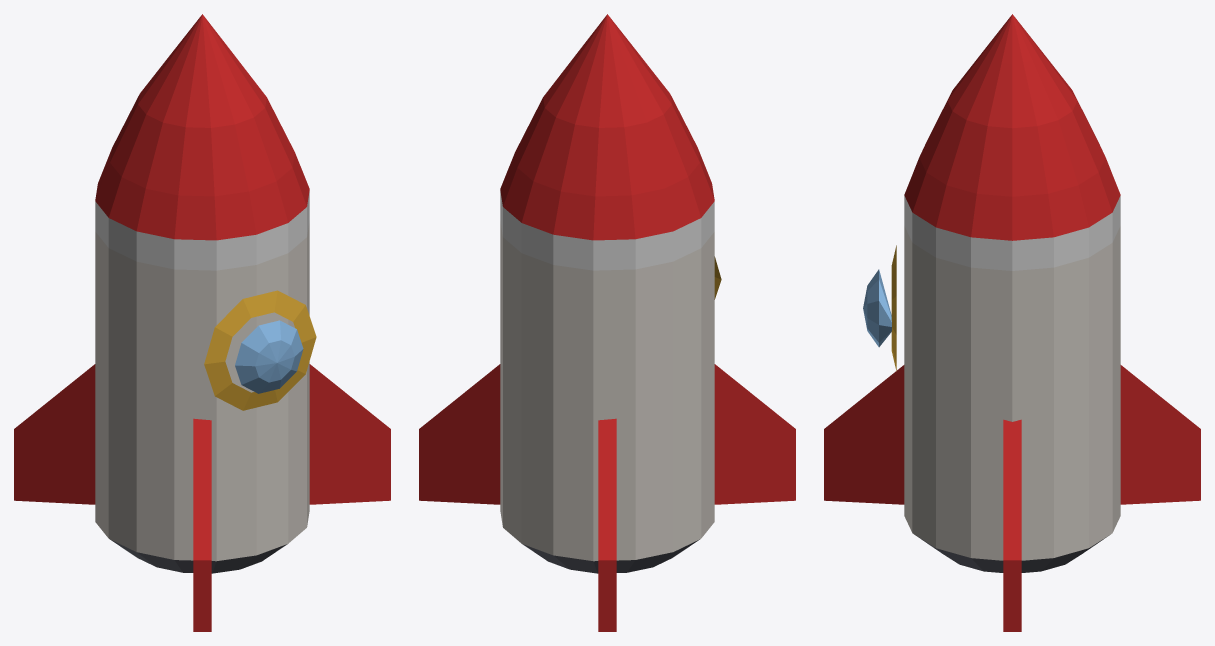
The model's file is Epilog_Rakete.fbx.
3 views of the same model, side by side, from view 1: azimuth 30°, elevation 25°; view 2: azimuth 150°, elevation 25°; view 3: azimuth 270°, elevation 25° (orthographic).
Visible parts, largest first — view 1: Epilog_Rakete; view 2: Epilog_Rakete; view 3: Epilog_Rakete.
Part boxes in pixels (x1,y1,x2,y2): Epilog_Rakete: (14, 14, 390, 631); Epilog_Rakete: (419, 14, 795, 631); Epilog_Rakete: (824, 14, 1200, 631).
Size of the model in its own units: 392 by 700 by 453.
